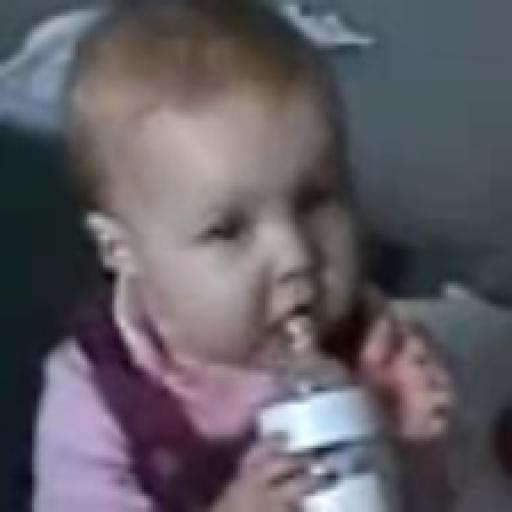Autism: (79, 16, 406, 400)
